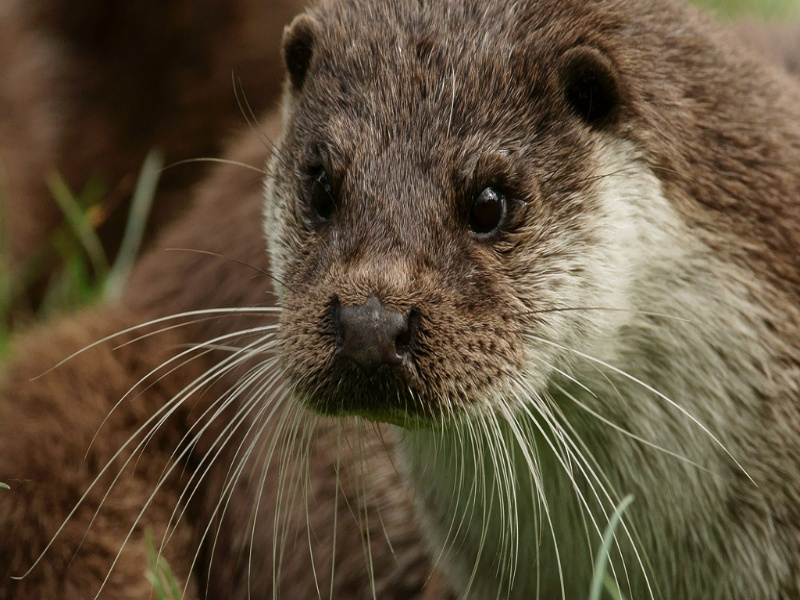minkish: (262, 1, 769, 426)
